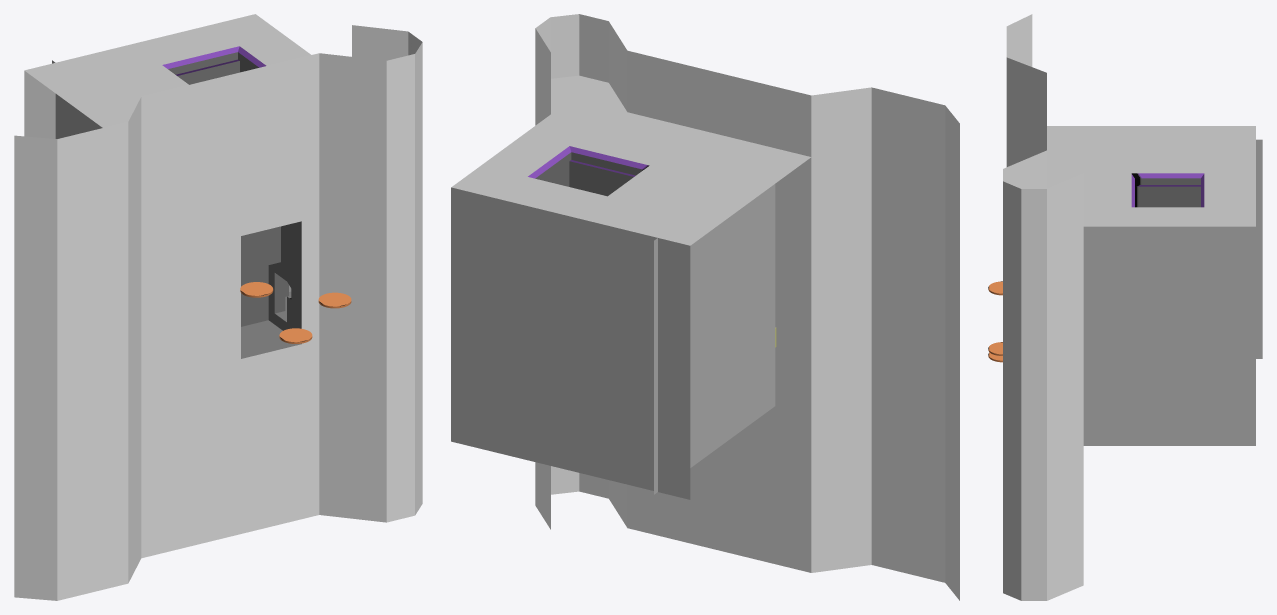
3 views of the same model, side by side, from view 1: azimuth 30°, elevation 25°; view 2: azimuth 150°, elevation 25°; view 3: azimuth 270°, elevation 25° (orthographic). The views are drawn at different scales.
Visible parts, largest first — view 1: Cube.008, Shadow Caster, Cube.012; view 2: Cube.008, Shadow Caster, Cube.012; view 3: Shadow Caster, Cube.008, Cube.012.
Part boxes in pixels (bbox=[...]): Cube.008: bbox=[14, 25, 422, 600]; Shadow Caster: bbox=[24, 14, 310, 138]; Cube.012: bbox=[162, 46, 301, 358]; Cube.008: bbox=[535, 14, 959, 600]; Shadow Caster: bbox=[451, 75, 810, 499]; Cube.012: bbox=[528, 146, 649, 196]; Shadow Caster: bbox=[1047, 126, 1262, 445]; Cube.008: bbox=[1003, 14, 1083, 600]; Cube.012: bbox=[1131, 173, 1204, 207].
Size of the model in its own units: 113 by 124 by 74.79.
